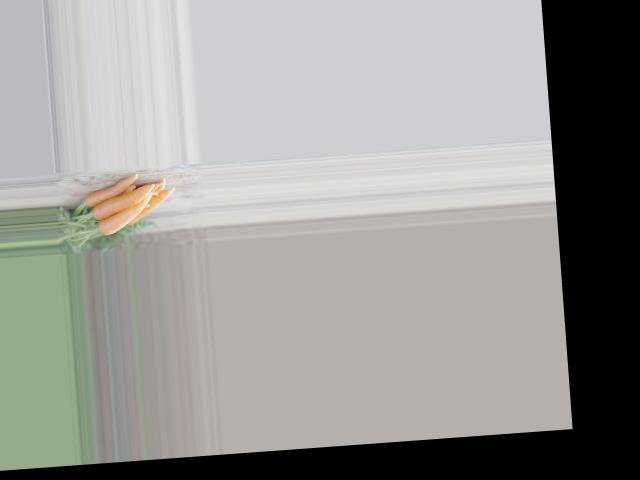carrot: (82, 173, 146, 208)
